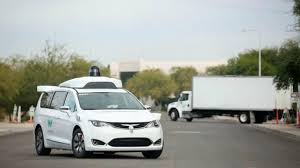car: (34, 86, 163, 160)
